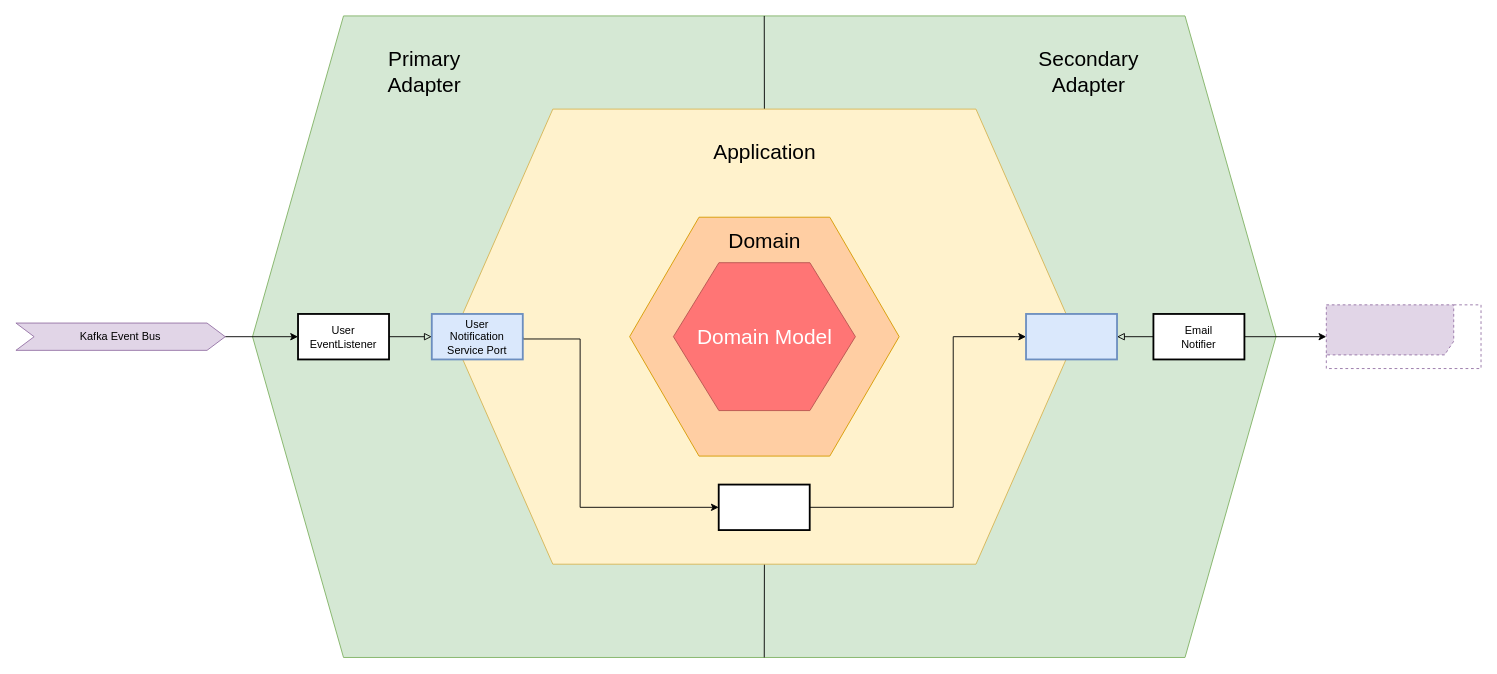
The diagram is 1497 pixels wide and 674 high, and some of its shapes have lost their labels. Here are the shapes that lost their labels. From the top down, the centre of each, then its label:
At pixel 1071 336: "Email Notifier Port".
At pixel 1403 336: "(Simulated) Email Server".
At pixel 763 507: "User Notification Service".
